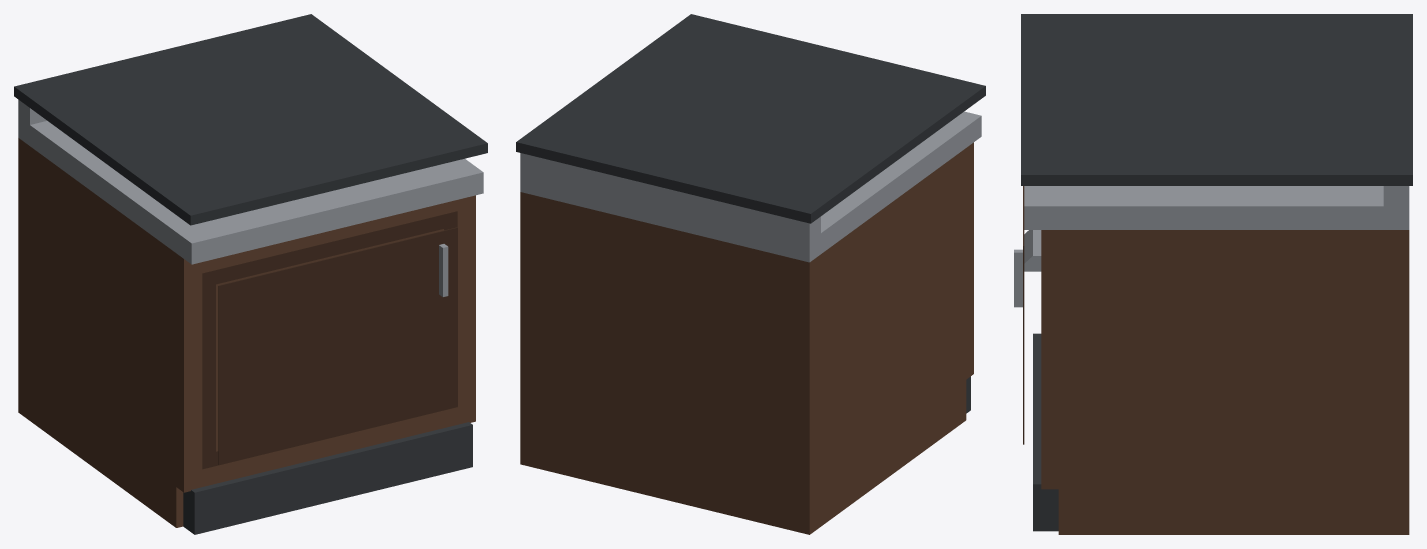
File: kitchenCabinet.glb
3 renders of one model, left to right at view 1: azimuth 30°, elevation 25°; view 2: azimuth 150°, elevation 25°; view 3: azimuth 270°, elevation 25°, orthographic. The views are drawn at different scales.
Visible parts, largest first — view 1: kitchenCabinet(Clone), door; view 2: kitchenCabinet(Clone); view 3: kitchenCabinet(Clone), door.
Boxes of the visible parts, box(x1,y1,x2,y2) form: kitchenCabinet(Clone): box(14, 14, 487, 534); door: box(202, 211, 457, 469); kitchenCabinet(Clone): box(516, 14, 985, 534); kitchenCabinet(Clone): box(1021, 14, 1412, 534); door: box(1014, 186, 1041, 444).
Bounding box in the file's own units: 0.43 × 0.45 × 0.45.
